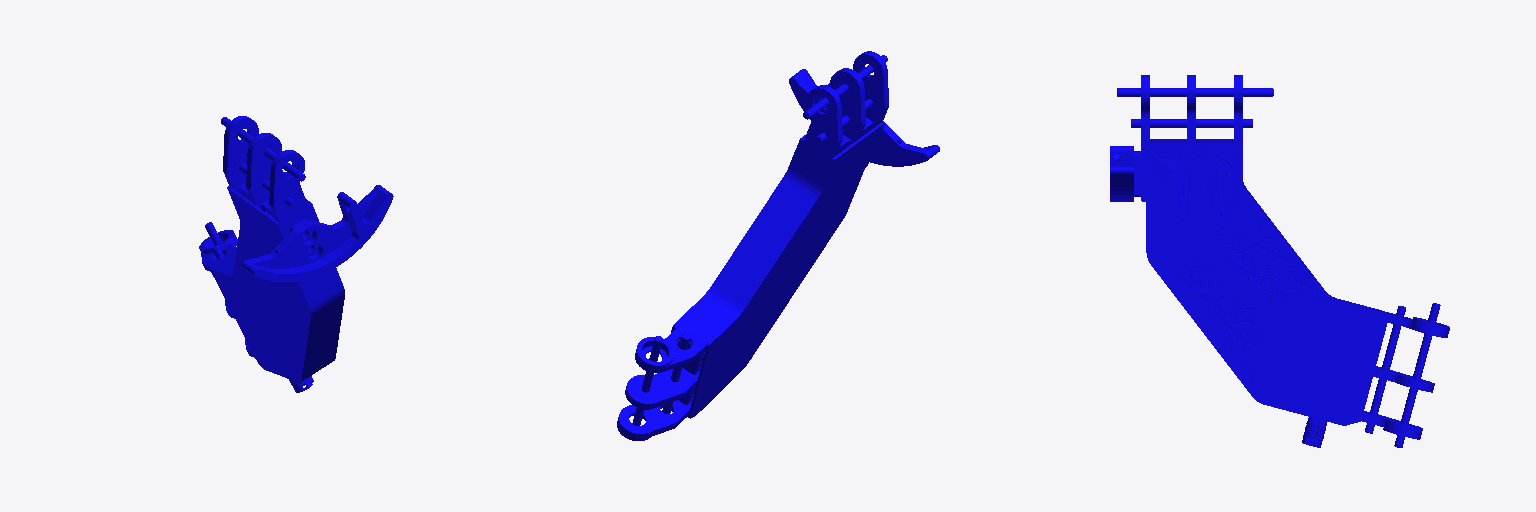
3 renders of one model, left to right at view 1: azimuth 30°, elevation 25°; view 2: azimuth 150°, elevation 25°; view 3: azimuth 270°, elevation 25°, orthographic.
Parts seen in each view (by area): view 1: /ambf/env/raven_2/link1_R; view 2: /ambf/env/raven_2/link1_R; view 3: /ambf/env/raven_2/link1_R.
Part boxes in pixels (left/top/right/bottom): /ambf/env/raven_2/link1_R: left=199, top=116, right=393, bottom=392; /ambf/env/raven_2/link1_R: left=617, top=51, right=939, bottom=440; /ambf/env/raven_2/link1_R: left=1110, top=75, right=1449, bottom=447.
Bounding box in the file's own units: 0.1147 × 0.2043 × 0.1945.